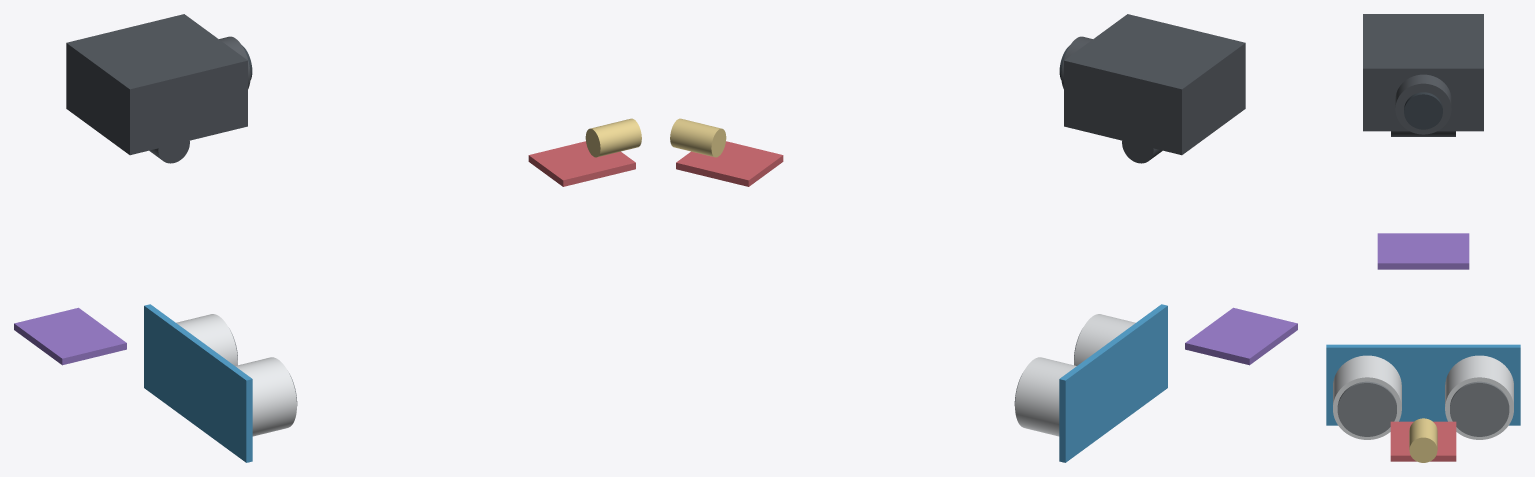
The model's file is fase2_canon_cuna_componentes.glb.
3 views of the same model, side by side, from view 1: azimuth 30°, elevation 25°; view 2: azimuth 150°, elevation 25°; view 3: azimuth 270°, elevation 25° (orthographic). The views are drawn at different scales.
Visible parts, largest first — view 1: =>[0:1:1:24], =>[0:1:1:12], =>[0:1:1:10], =>[0:1:1:14], =>[0:1:1:4], =>[0:1:1:6], =>[0:1:1:18]; view 2: =>[0:1:1:24], =>[0:1:1:12], =>[0:1:1:10], =>[0:1:1:18], =>[0:1:1:4], =>[0:1:1:6], =>[0:1:1:14]; view 3: =>[0:1:1:24], =>[0:1:1:12], =>[0:1:1:10], =>[0:1:1:16], =>[0:1:1:20], =>[0:1:1:14], =>[0:1:1:18], =>[0:1:1:4], =>[0:1:1:26], =>[0:1:1:28], =>[0:1:1:6], =>[0:1:1:22].
Boxes of the visible parts, left/top/right/bottom form: =>[0:1:1:24]: left=66, top=14, right=247, bottom=155; =>[0:1:1:12]: left=144, top=304, right=252, bottom=462; =>[0:1:1:10]: left=14, top=307, right=126, bottom=365; =>[0:1:1:14]: left=235, top=357, right=296, bottom=436; =>[0:1:1:4]: left=528, top=141, right=635, bottom=186; =>[0:1:1:6]: left=585, top=118, right=641, bottom=157; =>[0:1:1:18]: left=176, top=314, right=237, bottom=365; =>[0:1:1:24]: left=1064, top=14, right=1245, bottom=155; =>[0:1:1:12]: left=1059, top=304, right=1167, bottom=462; =>[0:1:1:10]: left=1185, top=307, right=1297, bottom=365; =>[0:1:1:18]: left=1015, top=357, right=1076, bottom=436; =>[0:1:1:4]: left=676, top=141, right=783, bottom=186; =>[0:1:1:6]: left=670, top=118, right=726, bottom=157; =>[0:1:1:14]: left=1074, top=314, right=1135, bottom=365; =>[0:1:1:24]: left=1363, top=14, right=1483, bottom=131; =>[0:1:1:12]: left=1326, top=344, right=1520, bottom=425; =>[0:1:1:10]: left=1377, top=233, right=1469, bottom=269; =>[0:1:1:16]: left=1337, top=381, right=1396, bottom=436; =>[0:1:1:20]: left=1450, top=381, right=1509, bottom=436; =>[0:1:1:14]: left=1333, top=355, right=1401, bottom=439; =>[0:1:1:18]: left=1445, top=355, right=1513, bottom=439; =>[0:1:1:4]: left=1390, top=421, right=1456, bottom=461; =>[0:1:1:26]: left=1395, top=74, right=1451, bottom=134; =>[0:1:1:28]: left=1404, top=92, right=1442, bottom=129; =>[0:1:1:6]: left=1409, top=418, right=1437, bottom=462; =>[0:1:1:22]: left=1391, top=131, right=1455, bottom=136.
Size of the model in its own units: 0.1514 by 0.093 by 0.045.
